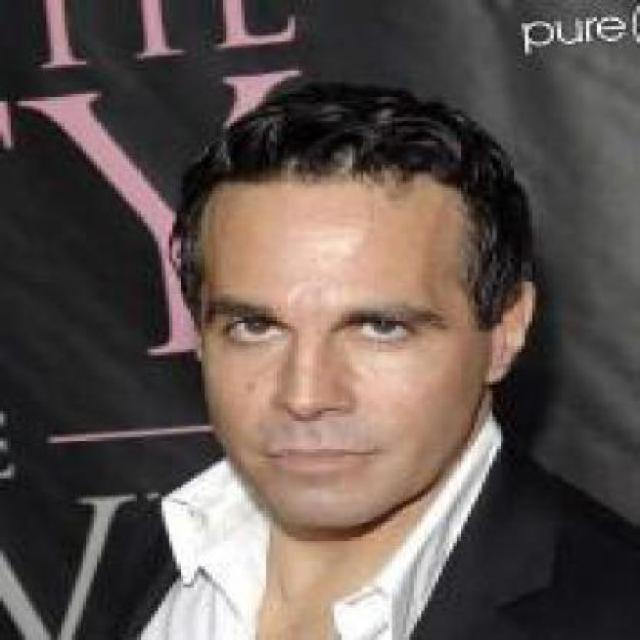closed-mouth: (254, 442, 380, 476)
